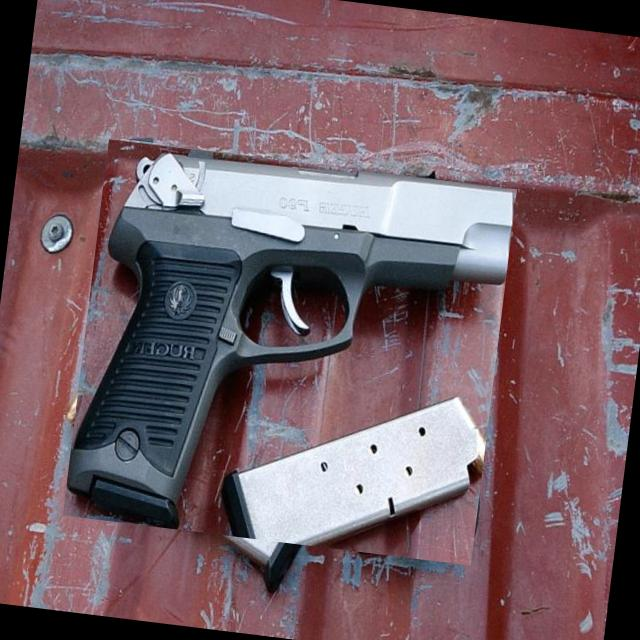Gun: (67, 150, 514, 529)
